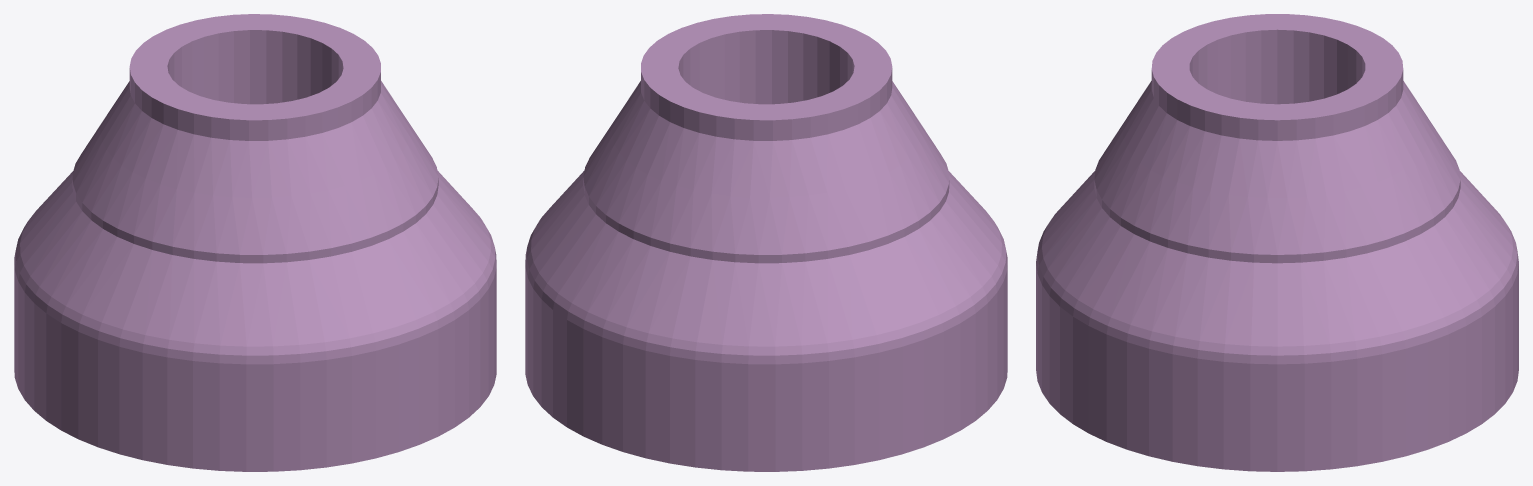
File: Ringmagnet.glb
3 renders of one model, left to right at view 1: azimuth 30°, elevation 25°; view 2: azimuth 150°, elevation 25°; view 3: azimuth 270°, elevation 25°, orthographic.
Visible parts, largest first — view 1: Ringmagnet; view 2: Ringmagnet; view 3: Ringmagnet.
Boxes of the visible parts, left/top/right/bottom form: Ringmagnet: left=14, top=14, right=496, bottom=471; Ringmagnet: left=525, top=14, right=1007, bottom=471; Ringmagnet: left=1036, top=14, right=1518, bottom=471.
Size of the model in its own units: 0.0105 by 0.0073 by 0.0105.
